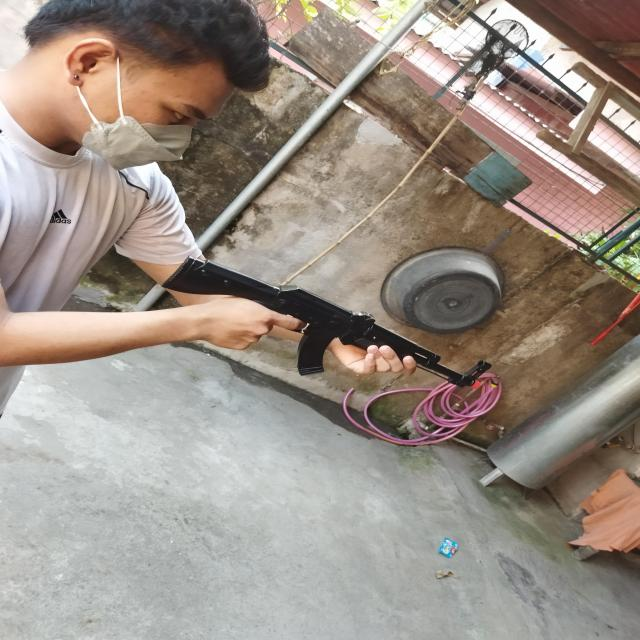rifle: (160, 256, 491, 388)
